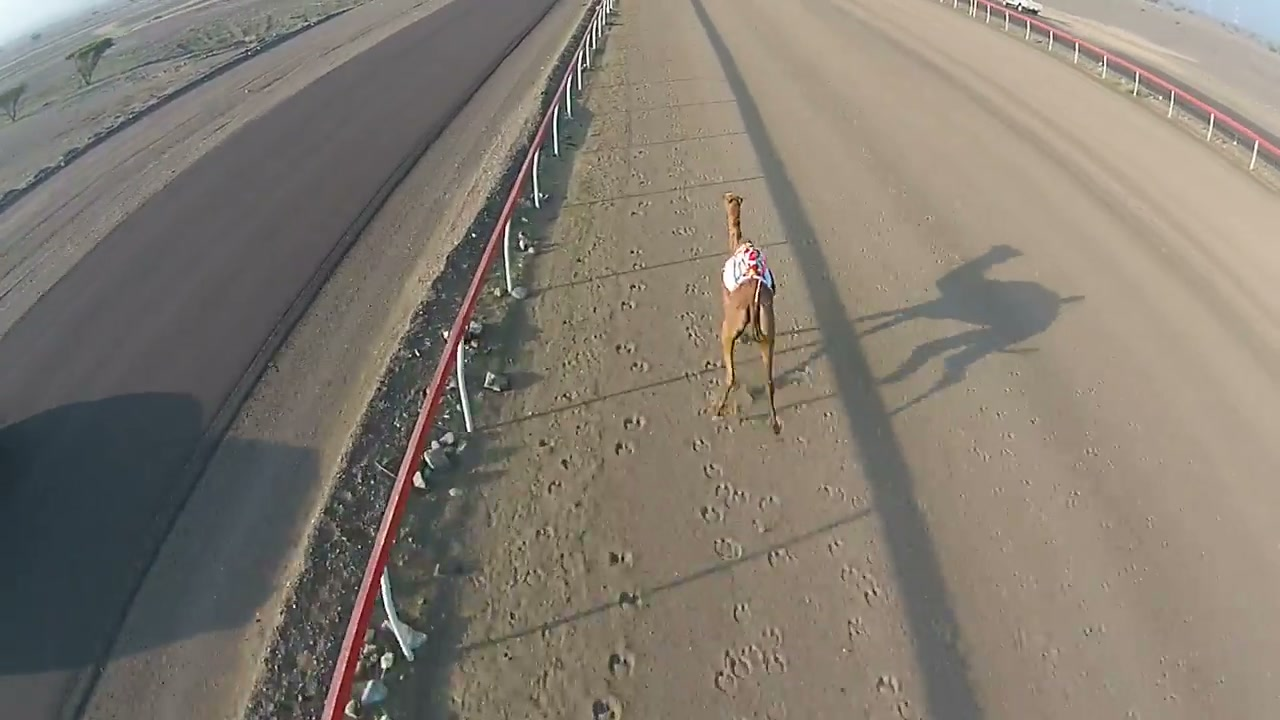animal_footprint: (584, 158, 686, 711), (691, 400, 817, 719)
